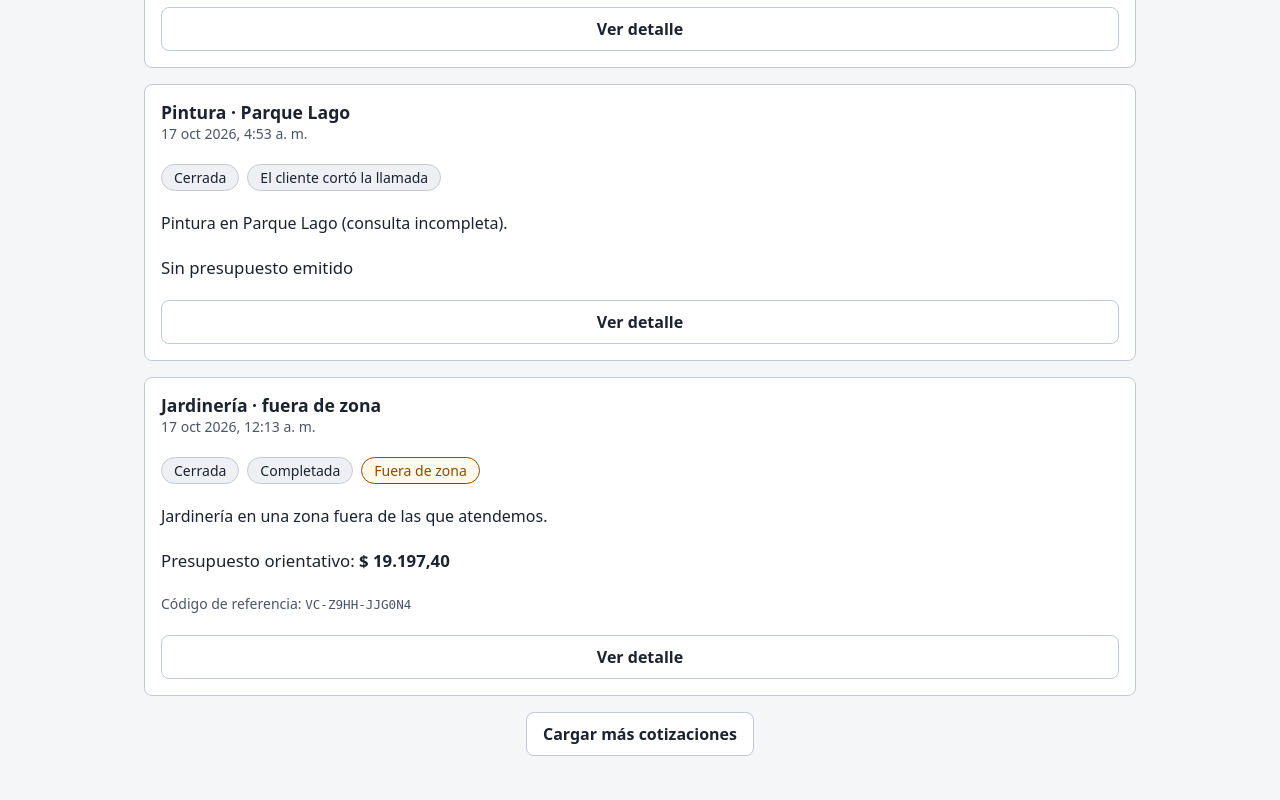
Mis cotizaciones: más resultados › si falla "cargar más", avisa sin perder lo que ya se vio y deja reintentar
Later steps or results of the test are not shown.
(page scrolled)
Click the button "Cargar más cotizaciones" at [640, 734], box x1=526 y1=712 x2=754 y2=756
(page scrolled)
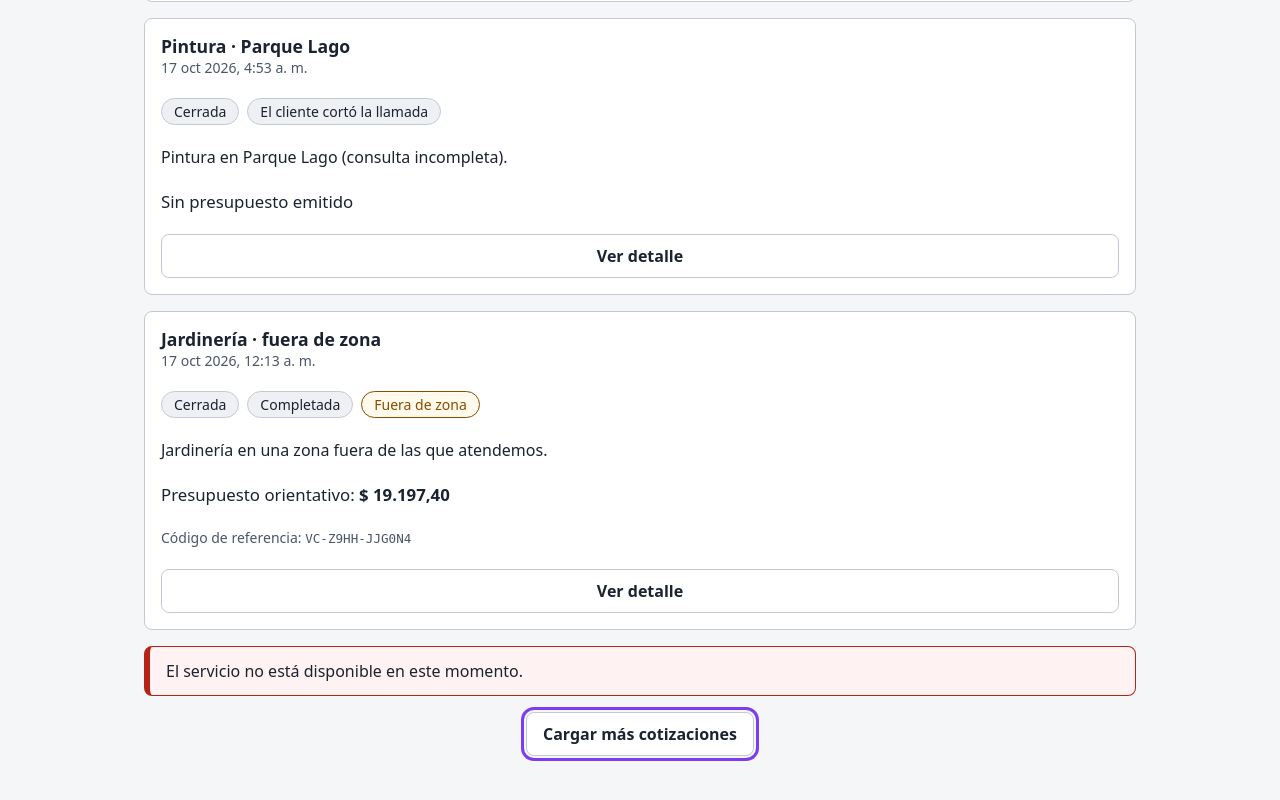
Expected: the message reads "El servicio no está disponible en este momento.", x1=166 y1=660 x2=523 y2=682
